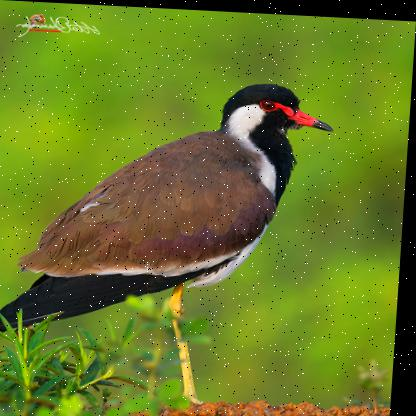Burung: (0, 70, 338, 409)
